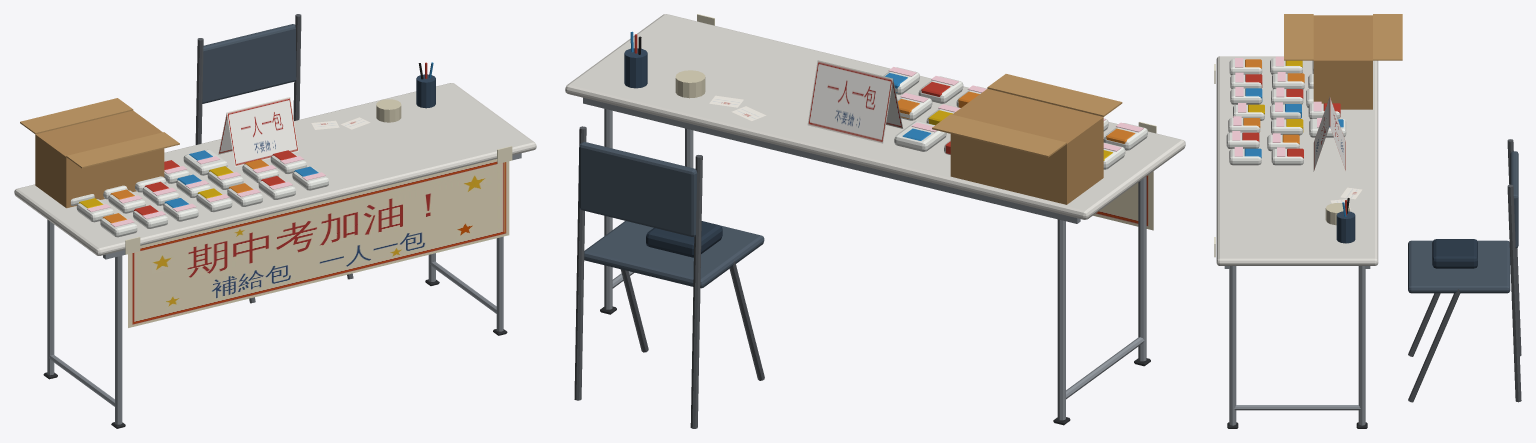
File: linze_supply_table.glb
3 renders of one model, left to right at view 1: azimuth 30°, elevation 25°; view 2: azimuth 150°, elevation 25°; view 3: azimuth 270°, elevation 25°, orthographic. The views are drawn at different scales.
Parts seen in each view (by area): view 1: st_print, st_parts, st_top, st_frame; view 2: st_parts, st_top, st_frame, st_print; view 3: st_parts, st_top, st_frame, st_print.
Part boxes in pixels (bbox=[...]): st_print: bbox=[128, 97, 509, 327]; st_parts: bbox=[20, 24, 512, 428]; st_top: bbox=[14, 83, 536, 255]; st_frame: bbox=[47, 14, 521, 424]; st_parts: bbox=[579, 14, 1156, 425]; st_top: bbox=[565, 14, 1185, 219]; st_frame: bbox=[574, 97, 1146, 428]; st_print: bbox=[709, 60, 1153, 230]; st_parts: bbox=[1214, 14, 1518, 428]; st_top: bbox=[1216, 56, 1378, 265]; st_frame: bbox=[1224, 139, 1521, 425]; st_print: bbox=[1313, 96, 1362, 209].
Bounding box in the file's own units: 1.8 × 0.949 × 1.14.
Materials: 4 (1 with a texture image).
